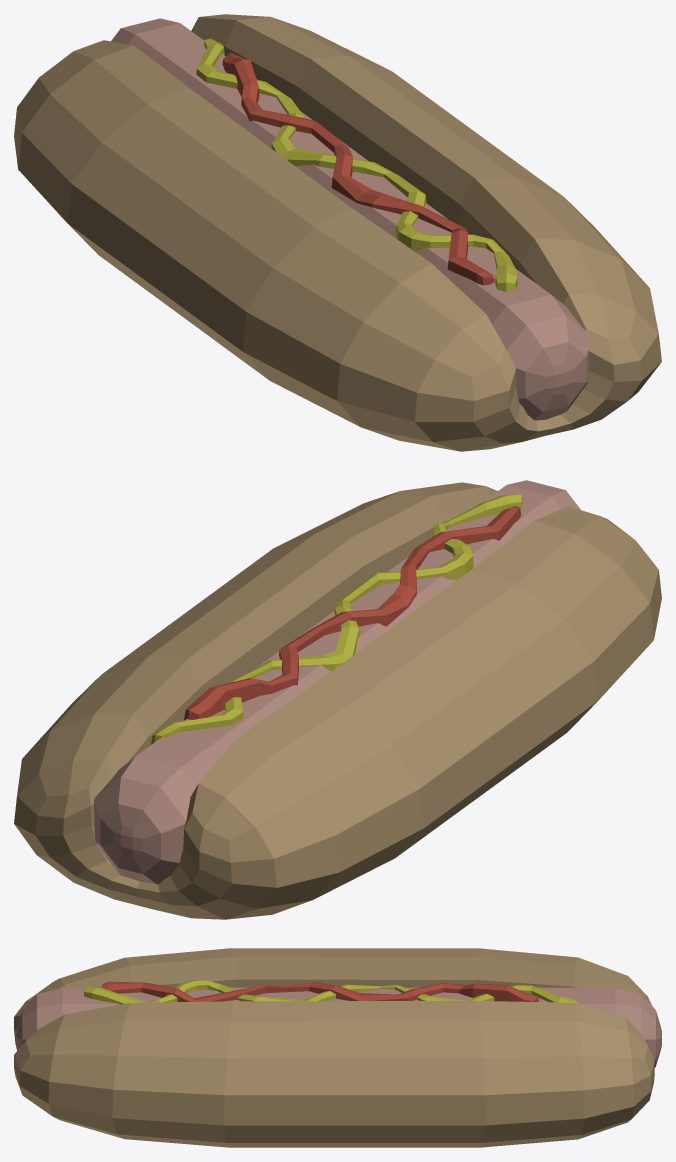
File: Hotdog.obj
3 views of the same model, one above another, from view 1: azimuth 30°, elevation 25°; view 2: azimuth 150°, elevation 25°; view 3: azimuth 270°, elevation 25° (orthographic). The views are drawn at different scales.
Visible parts, largest first — view 1: mesh_0, mesh_3, mesh_1, mesh_2; view 2: mesh_0, mesh_3, mesh_1, mesh_2; view 3: mesh_0, mesh_3, mesh_1, mesh_2.
Boxes of the visible parts, box(x1,y1,x2,y2) form: mesh_0: box(14, 14, 661, 451); mesh_3: box(111, 18, 589, 420); mesh_1: box(222, 52, 494, 285); mesh_2: box(196, 38, 517, 291); mesh_0: box(14, 482, 661, 919); mesh_3: box(94, 480, 580, 884); mesh_1: box(184, 506, 520, 720); mesh_2: box(151, 494, 522, 744); mesh_0: box(14, 948, 654, 1147); mesh_3: box(16, 987, 661, 1067); mesh_1: box(101, 981, 538, 1001); mesh_2: box(84, 979, 577, 1004).
Size of the model in its own units: 0.7853 by 0.4094 by 1.66.
